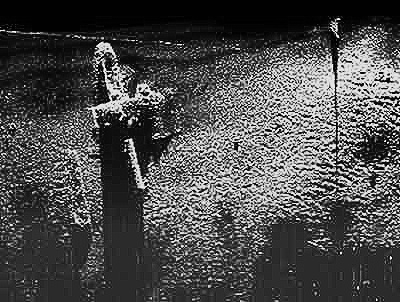plane: (88, 41, 172, 191)
